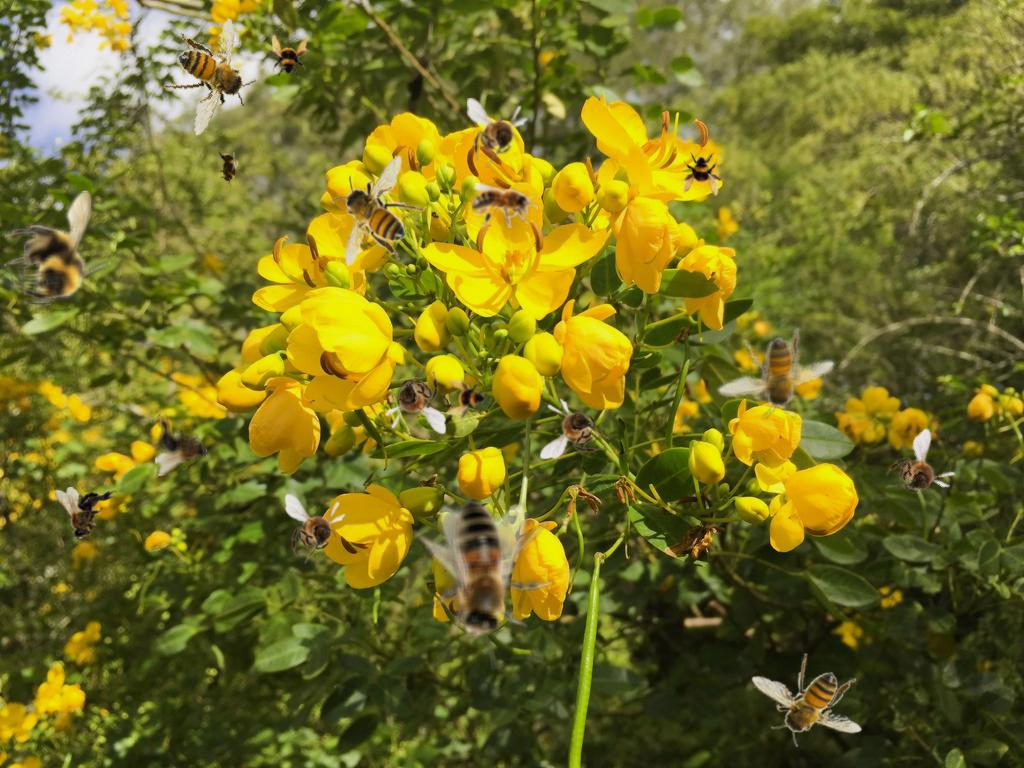Bee: (367, 460, 600, 692), (700, 302, 847, 446), (153, 15, 266, 141), (4, 190, 111, 305), (751, 653, 862, 747), (331, 155, 425, 266), (873, 427, 966, 519), (382, 363, 447, 437), (467, 98, 528, 168), (285, 494, 346, 564), (540, 398, 610, 459), (55, 487, 117, 540), (155, 414, 208, 476), (472, 183, 538, 228), (446, 378, 490, 422), (265, 35, 309, 79), (681, 152, 725, 196), (217, 148, 239, 188)
